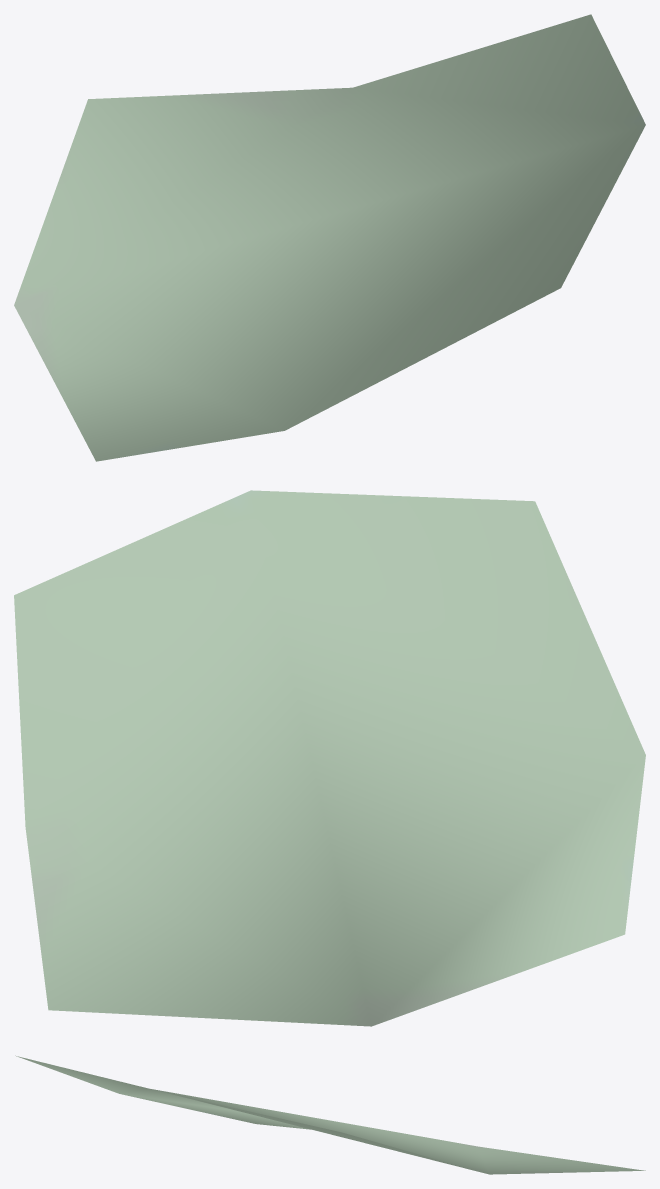
Rendered from TROLLHOLE02_HOLECAP119.fbx.
3 renders of one model, top to bottom at view 1: azimuth 30°, elevation 25°; view 2: azimuth 150°, elevation 25°; view 3: azimuth 270°, elevation 25°, orthographic. The views are drawn at different scales.
Parts seen in each view (by area): view 1: TROLLHOLE02_HOLECAP119; view 2: TROLLHOLE02_HOLECAP119; view 3: TROLLHOLE02_HOLECAP119.
Boxes of the visible parts, left/top/right/bottom form: TROLLHOLE02_HOLECAP119: left=14, top=14, right=645, bottom=461; TROLLHOLE02_HOLECAP119: left=14, top=490, right=645, bottom=1026; TROLLHOLE02_HOLECAP119: left=15, top=1055, right=645, bottom=1174.
Bounding box in the file's own units: 12864 × 6187 × 19306.
1 material, 1 textured.
